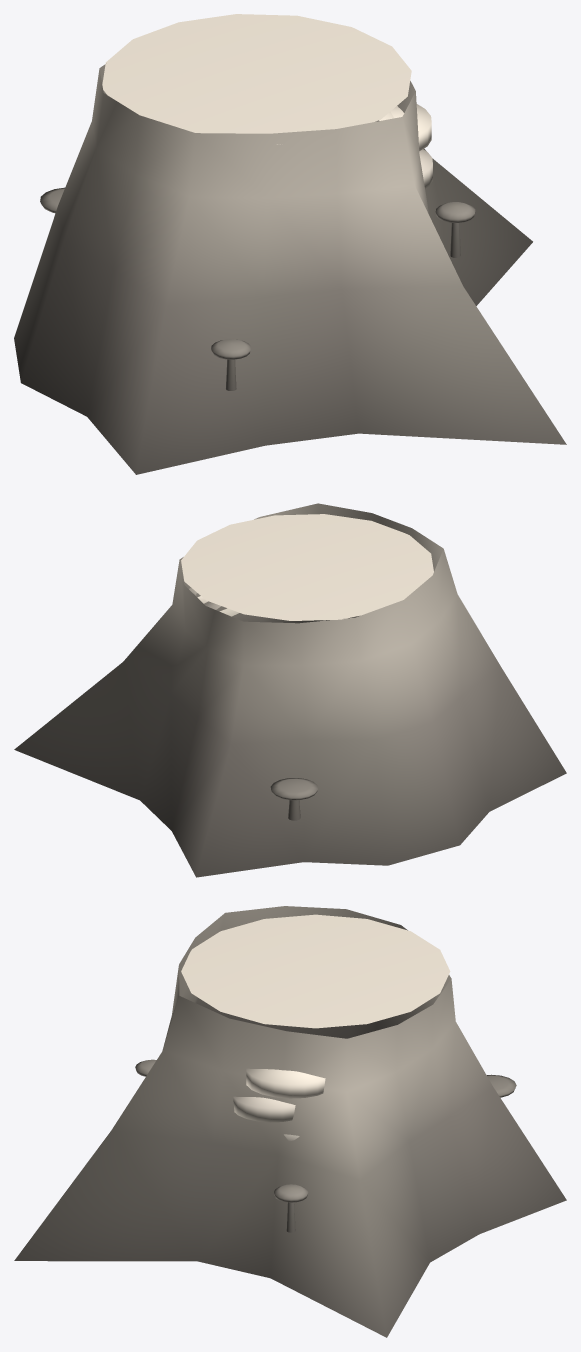
The model's file is SM_VK_Stump.fbx.
3 views of the same model, one above another, from view 1: azimuth 30°, elevation 25°; view 2: azimuth 150°, elevation 25°; view 3: azimuth 270°, elevation 25° (orthographic). The views are drawn at different scales.
Visible parts, largest first — view 1: SM_VK_Stump.001; view 2: SM_VK_Stump.001; view 3: SM_VK_Stump.001.
Part boxes in pixels (x1,y1,x2,y2): SM_VK_Stump.001: (14, 14, 566, 474); SM_VK_Stump.001: (14, 503, 566, 877); SM_VK_Stump.001: (14, 906, 566, 1337).
Bounding box in the file's own units: 1.71 × 0.8583 × 1.77.
